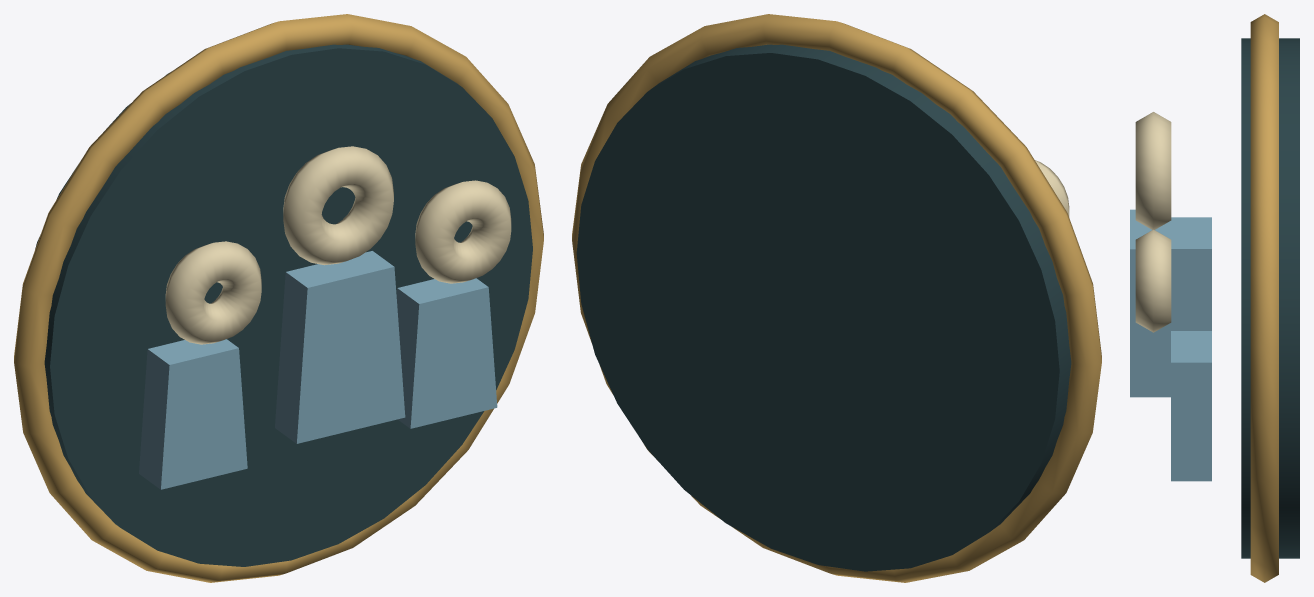
File: party.fbx
3 renders of one model, left to right at view 1: azimuth 30°, elevation 25°; view 2: azimuth 150°, elevation 25°; view 3: azimuth 270°, elevation 25°, orthographic. The views are drawn at different scales.
Visible parts, largest first — view 1: party; view 2: party; view 3: party.
Boxes of the visible parts, left/top/right/bottom form: party: left=14, top=14, right=543, bottom=582; party: left=572, top=14, right=1101, bottom=582; party: left=1130, top=14, right=1299, bottom=582.
Bounding box in the file's own units: 0.976 × 0.976 × 0.29.
